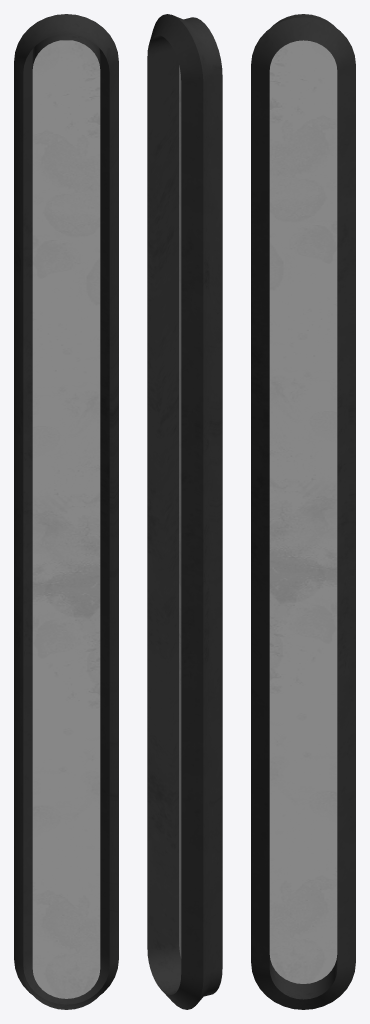
File: 4MLaserHole.fbx
3 renders of one model, left to right at view 1: azimuth 90°, elevation 25°; view 2: azimuth 210°, elevation 25°; view 3: azimuth 270°, elevation 25°, orthographic.
Visible parts, largest first — view 1: LaserHole.002; view 2: LaserHole.002; view 3: LaserHole.002.
Part boxes in pixels (bbox=[...]): LaserHole.002: bbox=[14, 14, 118, 1009]; LaserHole.002: bbox=[147, 14, 222, 1009]; LaserHole.002: bbox=[251, 14, 355, 1009].
Size of the model in its own units: 17.55 by 452 by 43.23.
